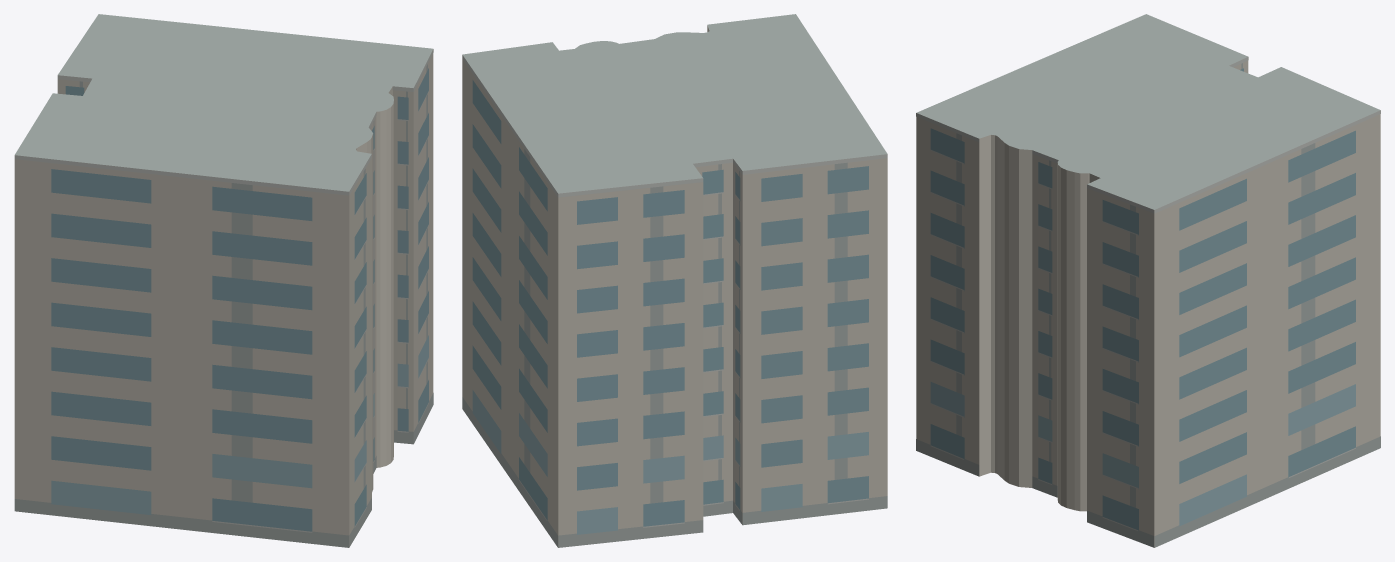
File: survey-upis-32845278.glb
The picture shows the model from 3 angles, left to right: view 1: azimuth 30°, elevation 25°; view 2: azimuth 150°, elevation 25°; view 3: azimuth 270°, elevation 25°; orthographic projection. The views are drawn at different scales.
Visible parts, largest first — view 1: survey-upis-32845278.tmp; view 2: survey-upis-32845278.tmp; view 3: survey-upis-32845278.tmp.
Boxes of the visible parts, left/top/right/bottom form: survey-upis-32845278.tmp: left=14, top=14, right=433, bottom=547; survey-upis-32845278.tmp: left=462, top=14, right=887, bottom=547; survey-upis-32845278.tmp: left=916, top=14, right=1380, bottom=547.
Size of the model in its own units: 27.19 by 21.85 by 27.23.
